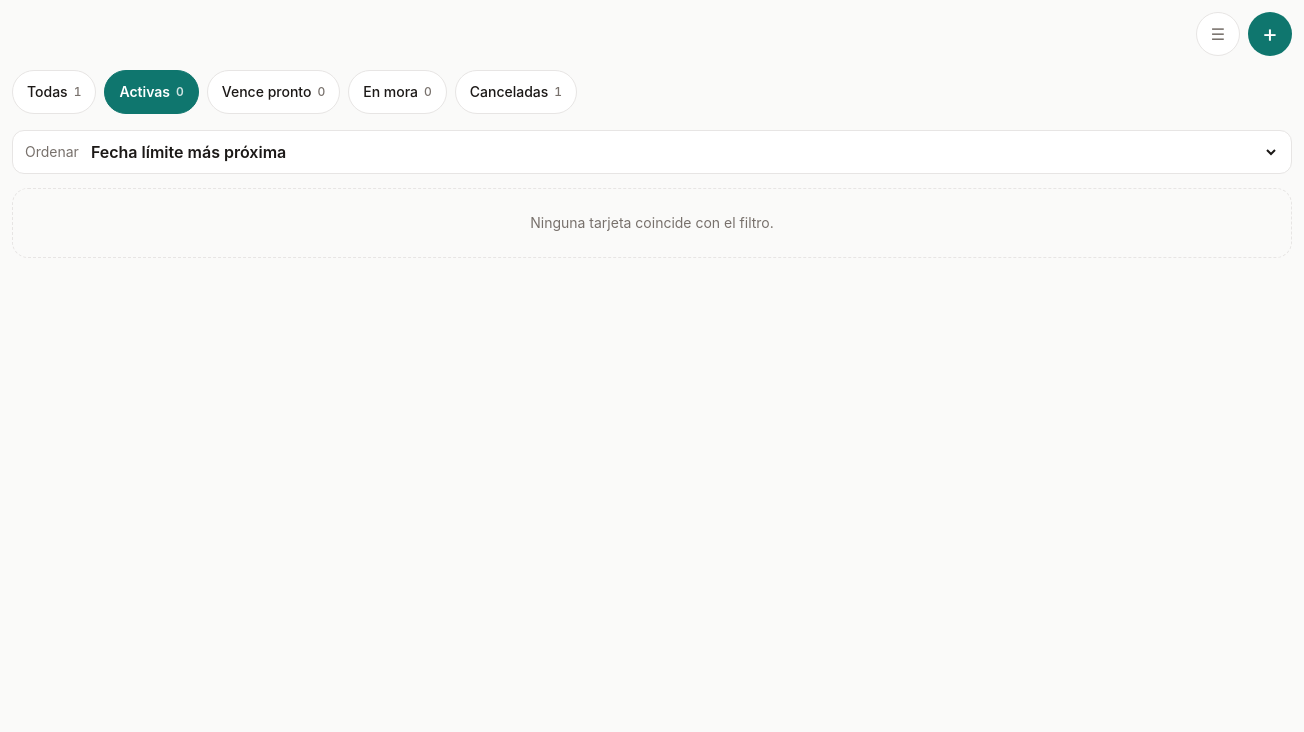
Test case: CardsPanel › hides register actions for a cancelled card
Click the radio button labelled "Canceladas 1": {"x": 516, "y": 92} [455,70,577,114]
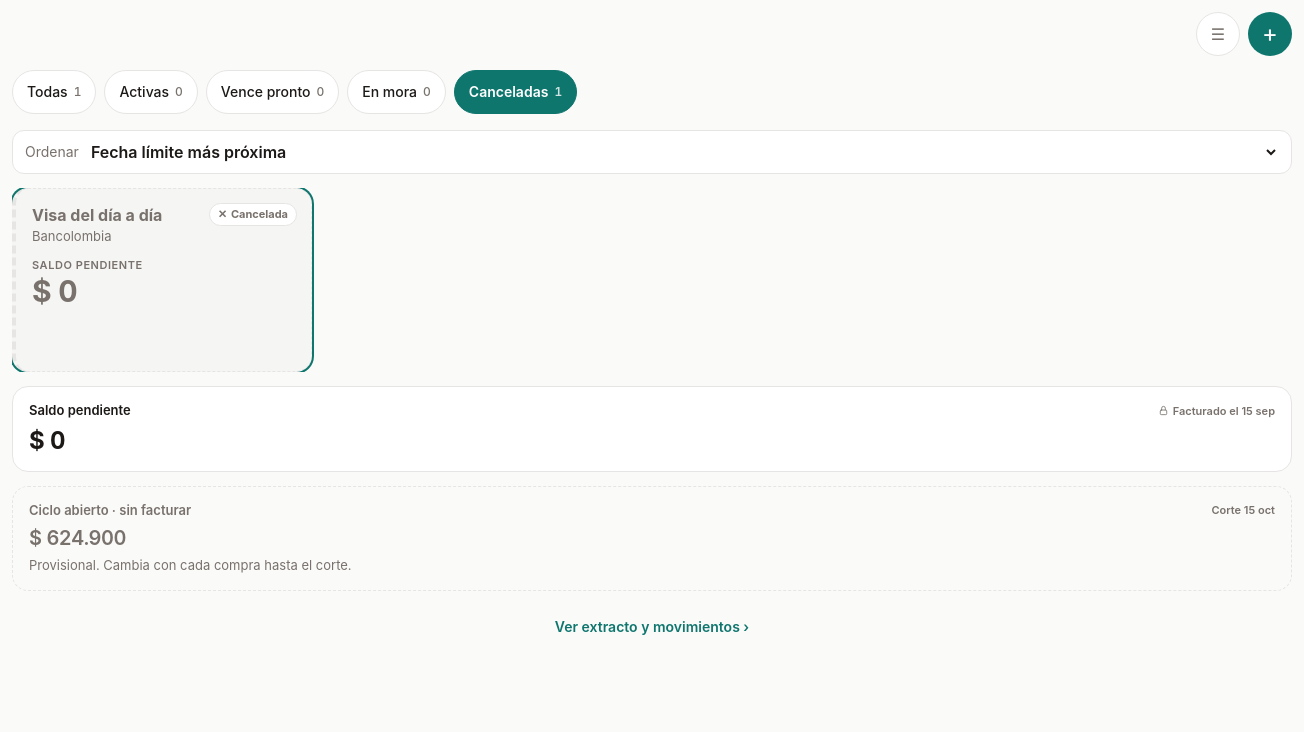
Result: the element "Visa del día a día" is shown at [12,188,312,372]
